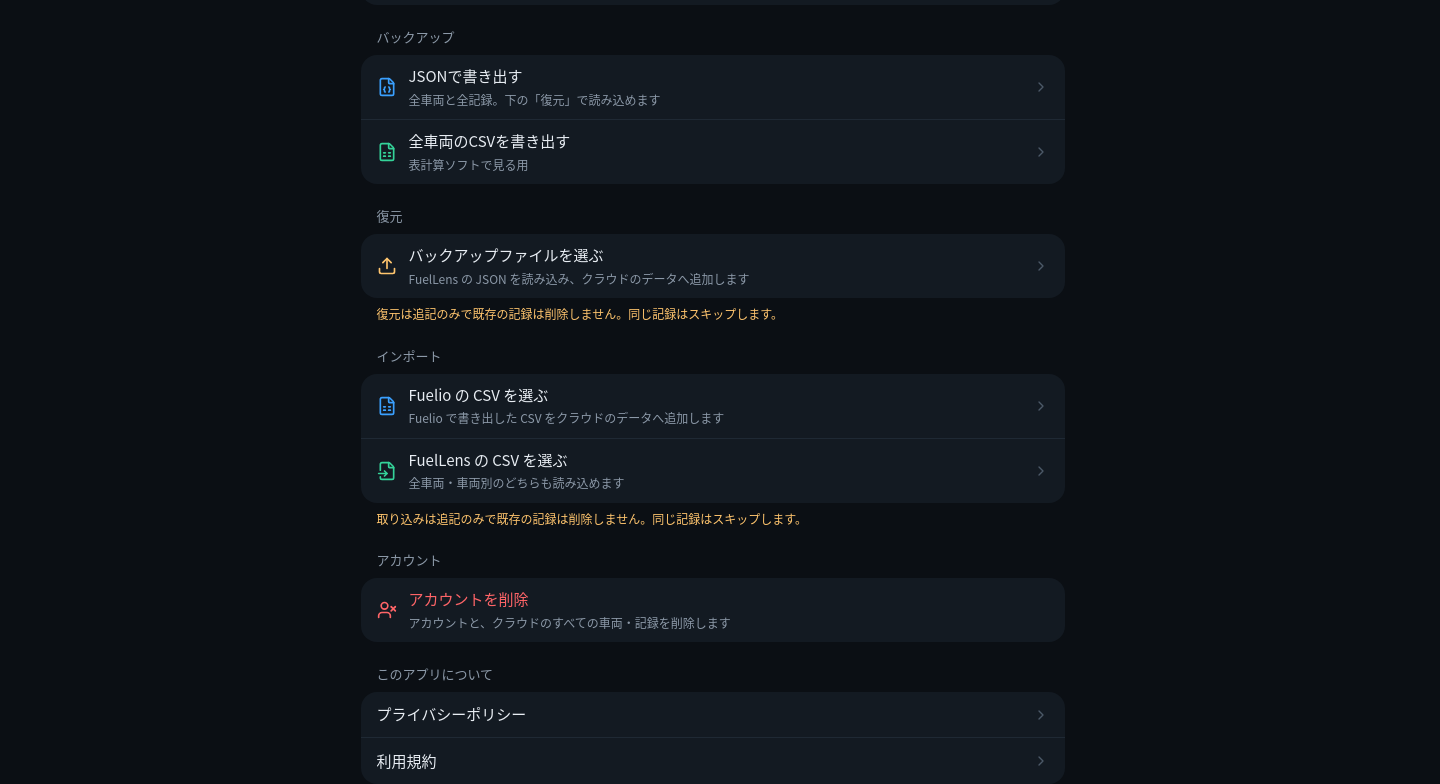
Test case: 設定画面のアカウント削除 › 確認ダイアログでキャンセルすると何もしない
The image size is (1440, 784).
(page scrolled)
Click the button "アカウントを削除 アカウントと、クラウドのすべての車両・記録を削除します": click(469, 598) [360, 578, 1064, 642]
(page scrolled)
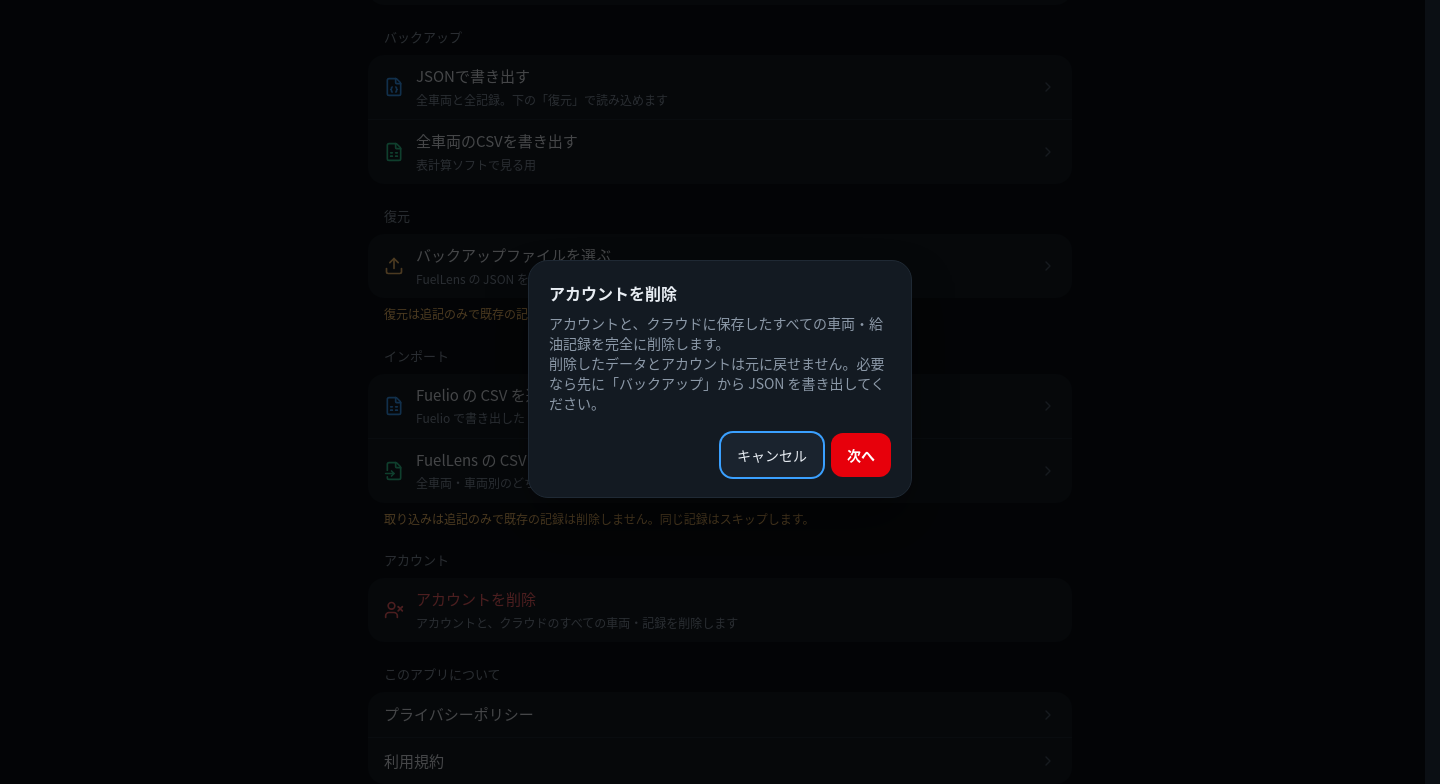
Now the dialog shows "元に戻せません", box [549, 313, 885, 413]
Click the button "キャンセル": click(772, 455) [721, 433, 823, 477]
(page scrolled)
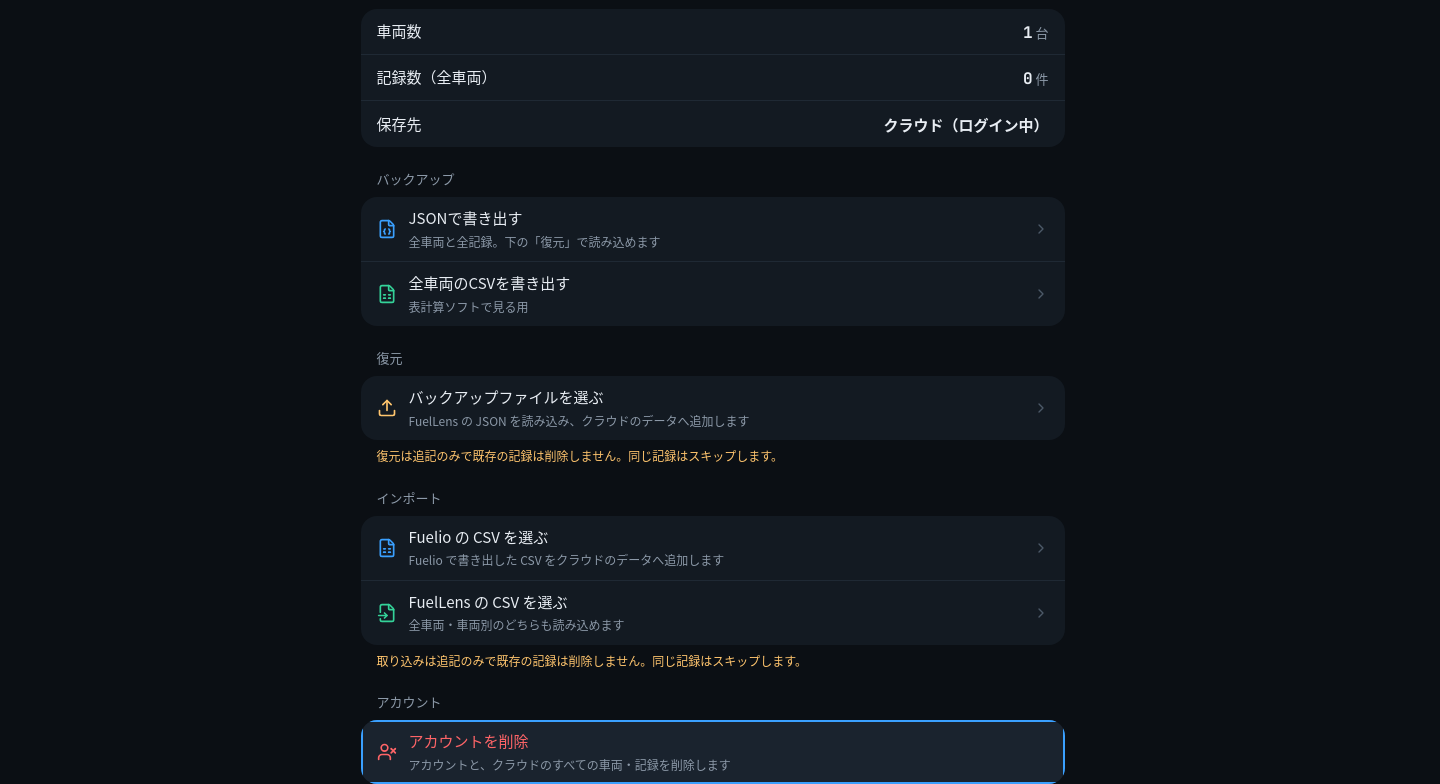
Now the dialog is gone
